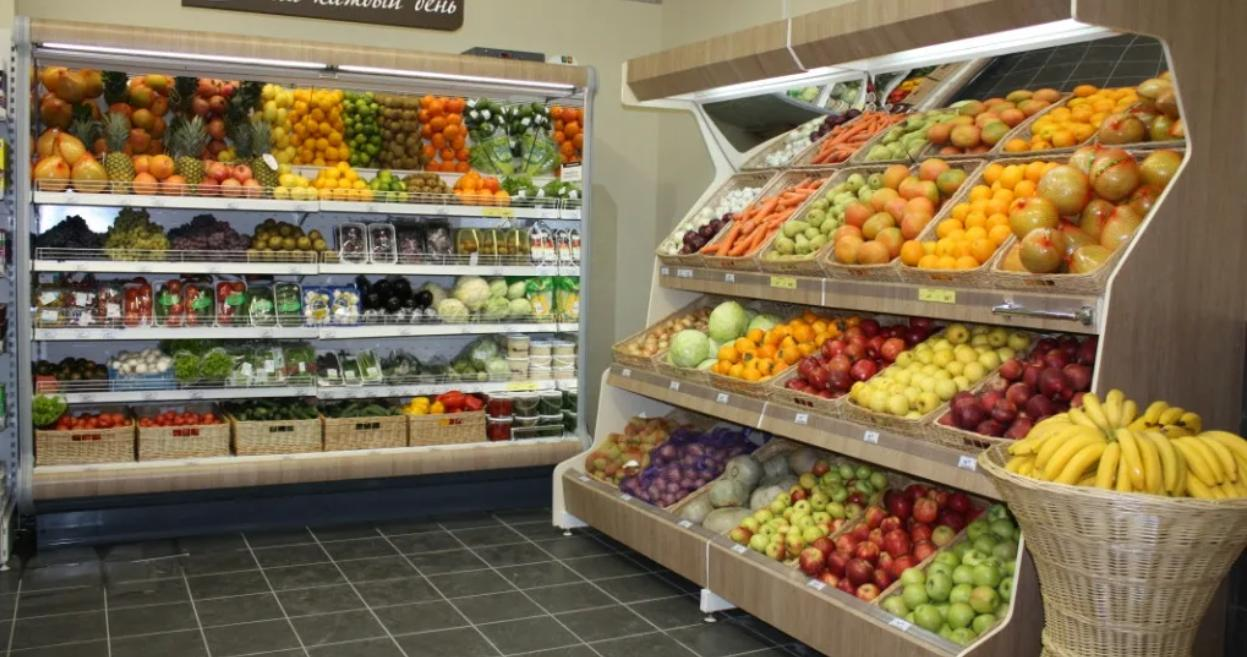banana: (1004, 390, 1244, 498)
cabbage: (669, 299, 783, 372)
carrot: (711, 174, 827, 261)
cucumber: (225, 398, 320, 427), (322, 398, 402, 422)
eggplant: (357, 271, 435, 316)
garlic: (662, 186, 760, 256)
grapes: (172, 211, 256, 262), (34, 213, 108, 260), (108, 209, 168, 265)
green apple: (886, 507, 1022, 653), (723, 459, 891, 560)
lemon: (276, 165, 313, 204)
onion: (616, 305, 709, 352), (683, 216, 725, 255)
orange: (900, 158, 1060, 271), (312, 160, 372, 207)
pear: (769, 168, 881, 264)
pineapple: (104, 128, 136, 193), (174, 136, 206, 198), (250, 145, 278, 199)
pomegranate: (198, 157, 260, 200)
potato: (622, 432, 728, 507), (586, 417, 680, 485)
pumpkin: (686, 444, 825, 536)
red apple: (800, 484, 982, 600), (943, 338, 1099, 446), (786, 313, 935, 399)
sweet pepper: (404, 391, 490, 426)
tomato: (41, 402, 133, 444), (140, 407, 223, 440)
